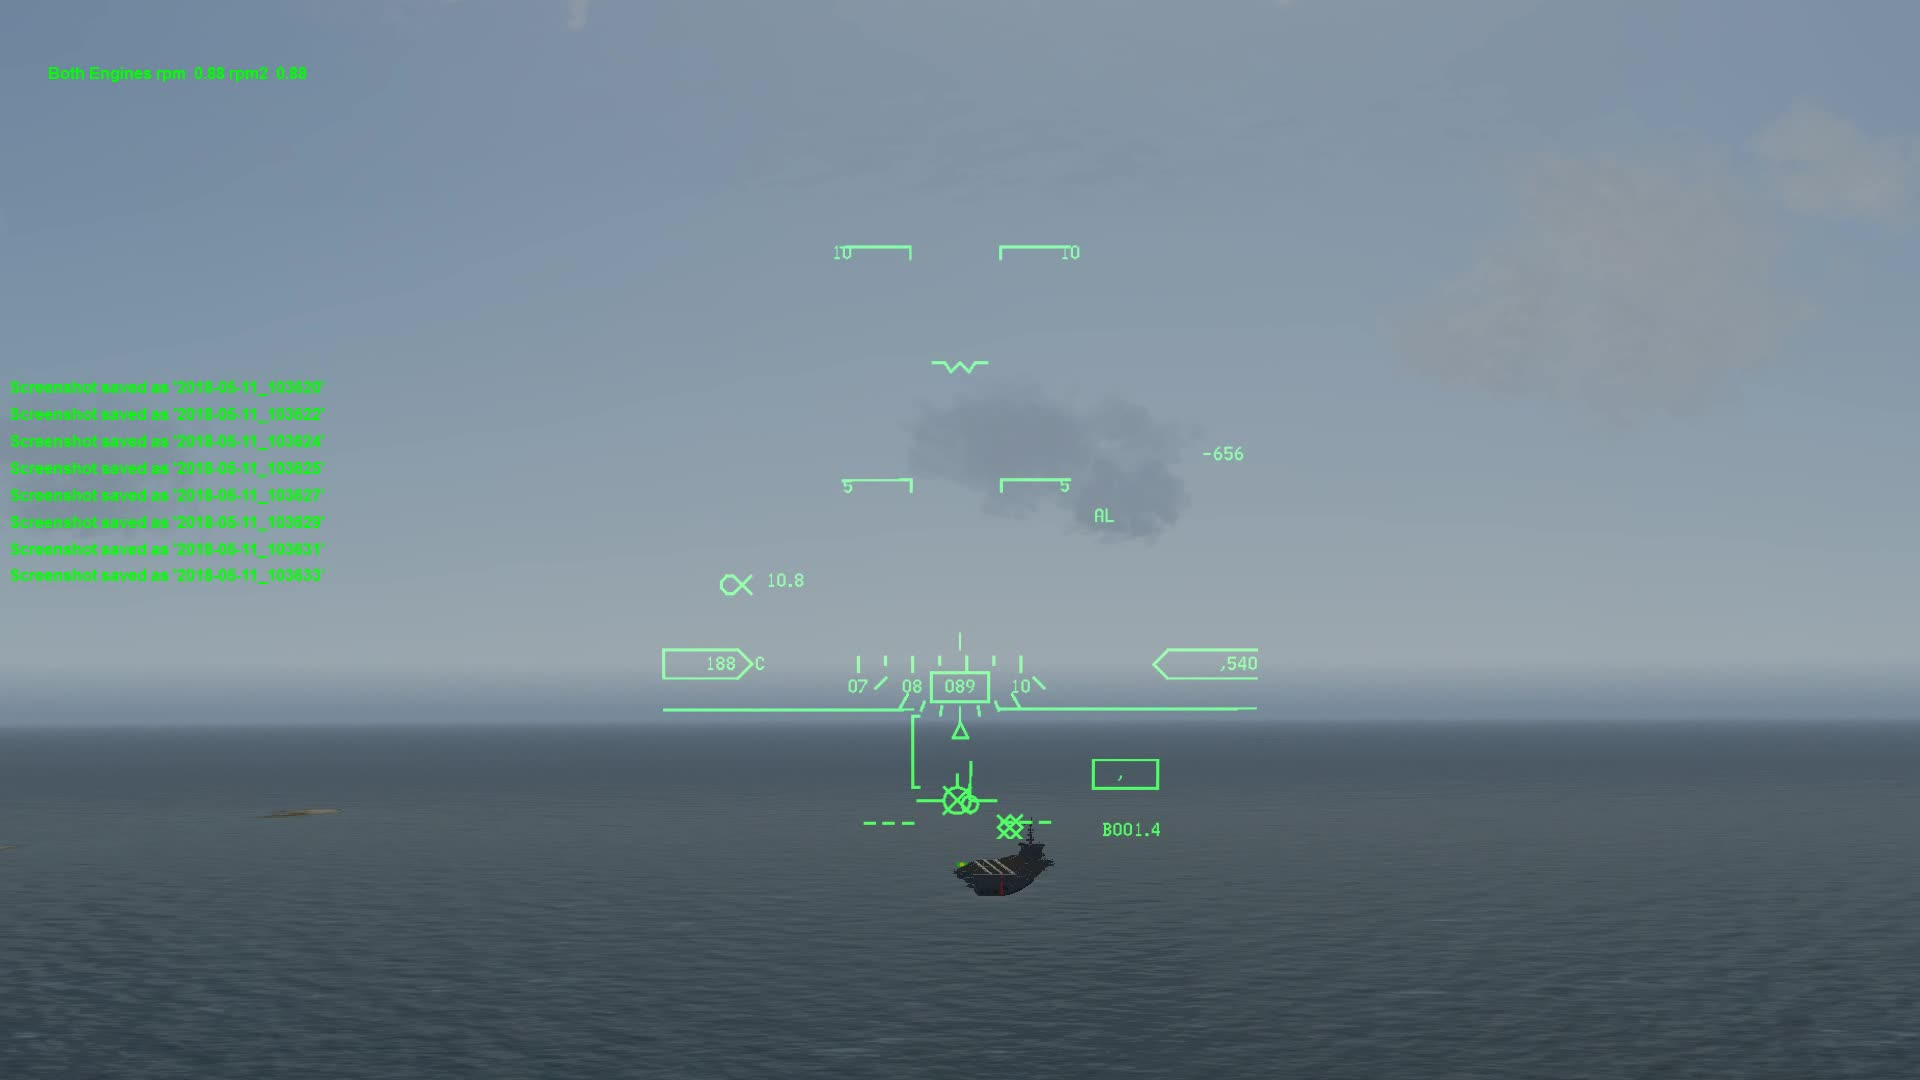speed vector: (913, 769, 1005, 819)
